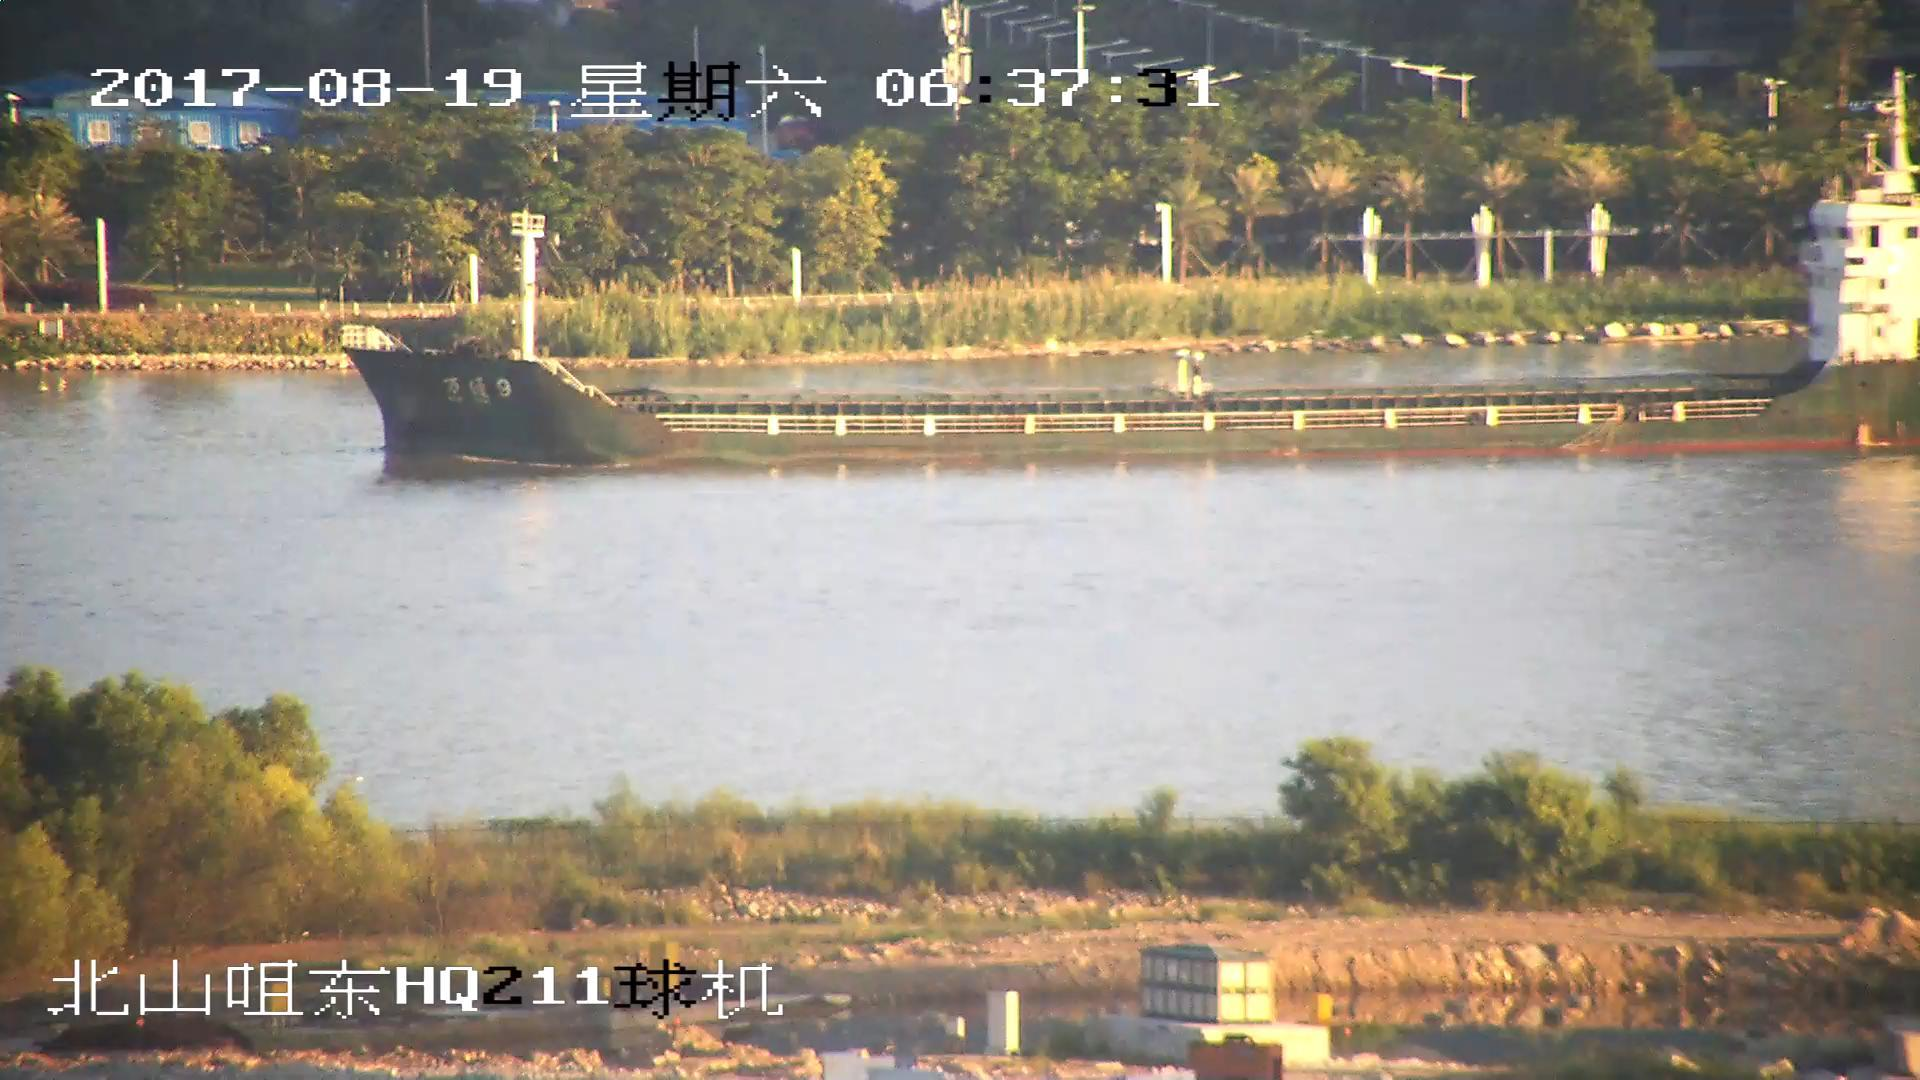Ship: (342, 112, 1920, 469)
